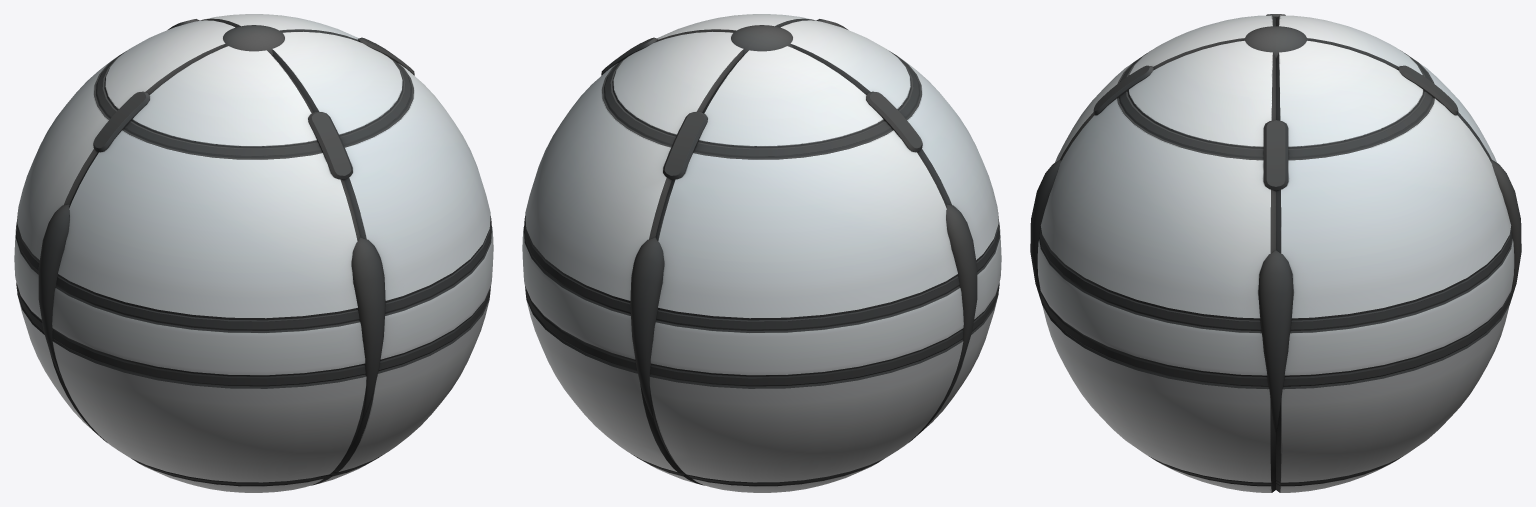
Rendered from Dodge Ball Accuracy.fbx.
3 renders of one model, left to right at view 1: azimuth 30°, elevation 25°; view 2: azimuth 150°, elevation 25°; view 3: azimuth 270°, elevation 25°, orthographic.
Visible parts, largest first — view 1: Accuracy_Ball; view 2: Accuracy_Ball; view 3: Accuracy_Ball.
Part boxes in pixels (<box>): Accuracy_Ball: <box>14,14,493,492</box>; Accuracy_Ball: <box>522,14,1001,492</box>; Accuracy_Ball: <box>1030,14,1521,492</box>.
Size of the model in its own units: 21.97 by 21.72 by 21.97.
